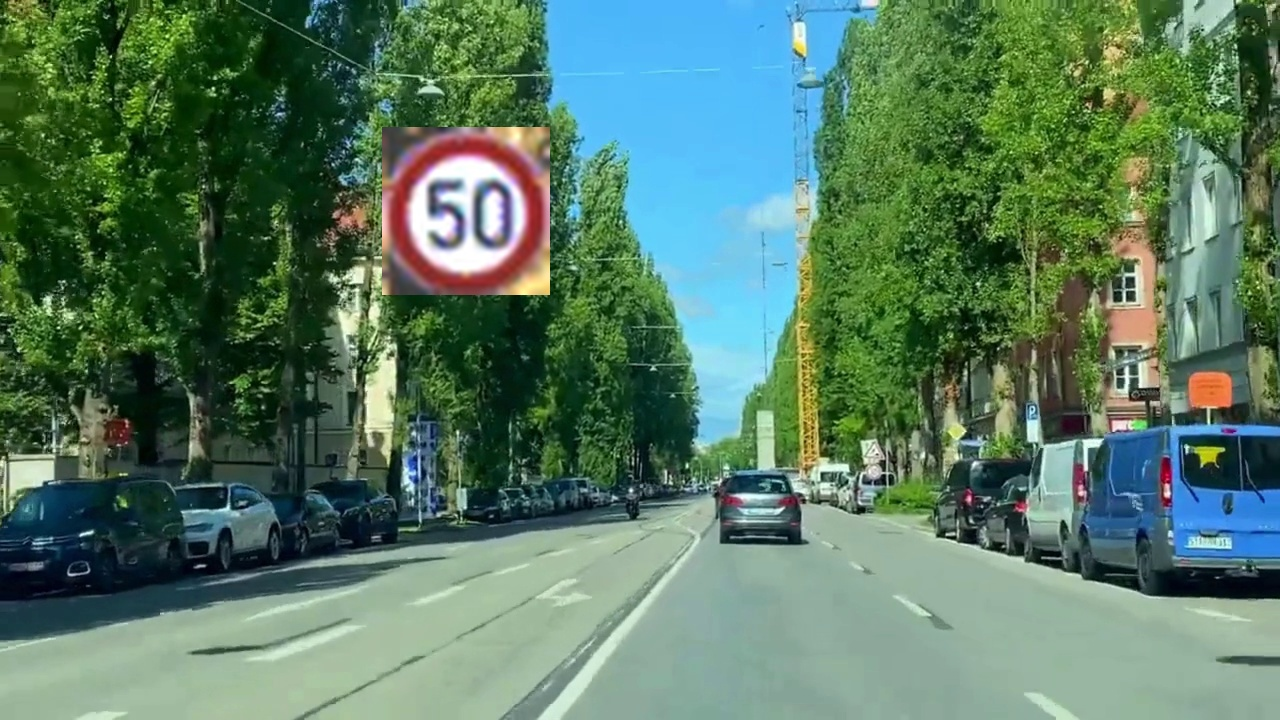Speed 50: (382, 127, 550, 295)
